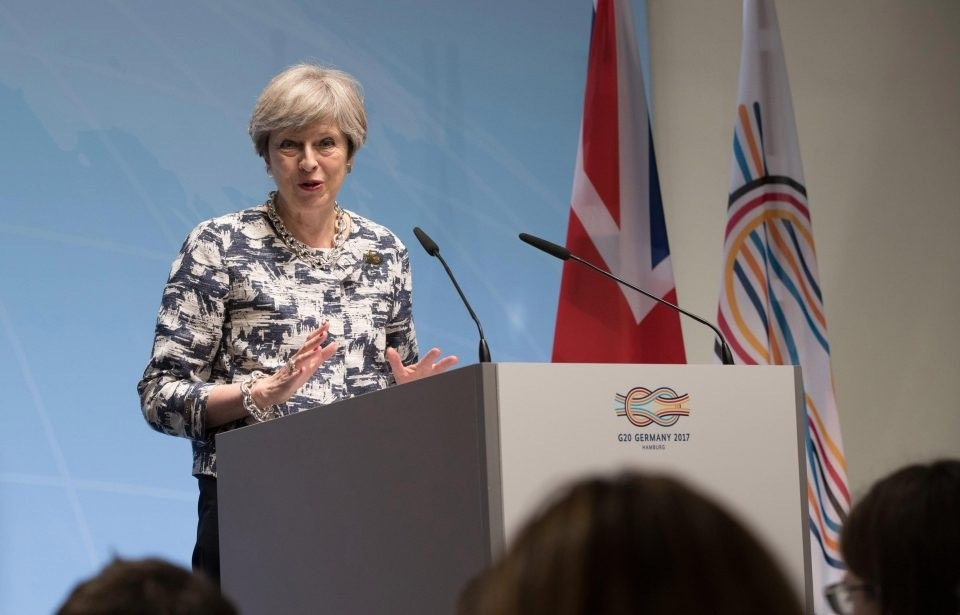face_no_mask: (250, 65, 360, 208)
